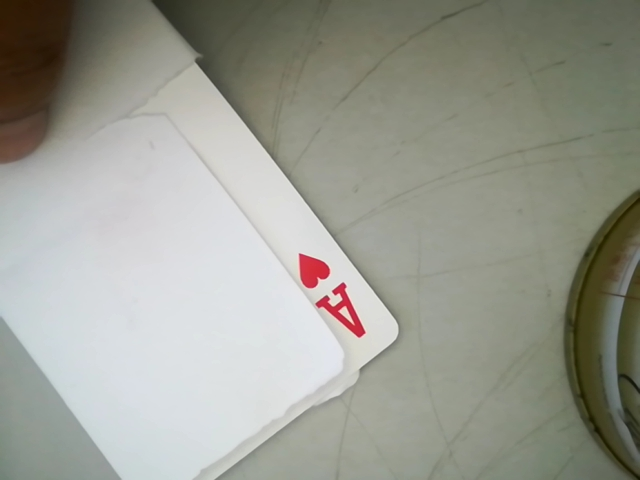hx a: (289, 245, 374, 349)
